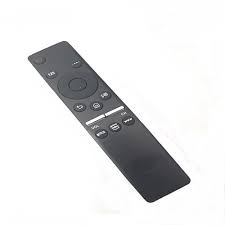remote control: (19, 36, 193, 206)
